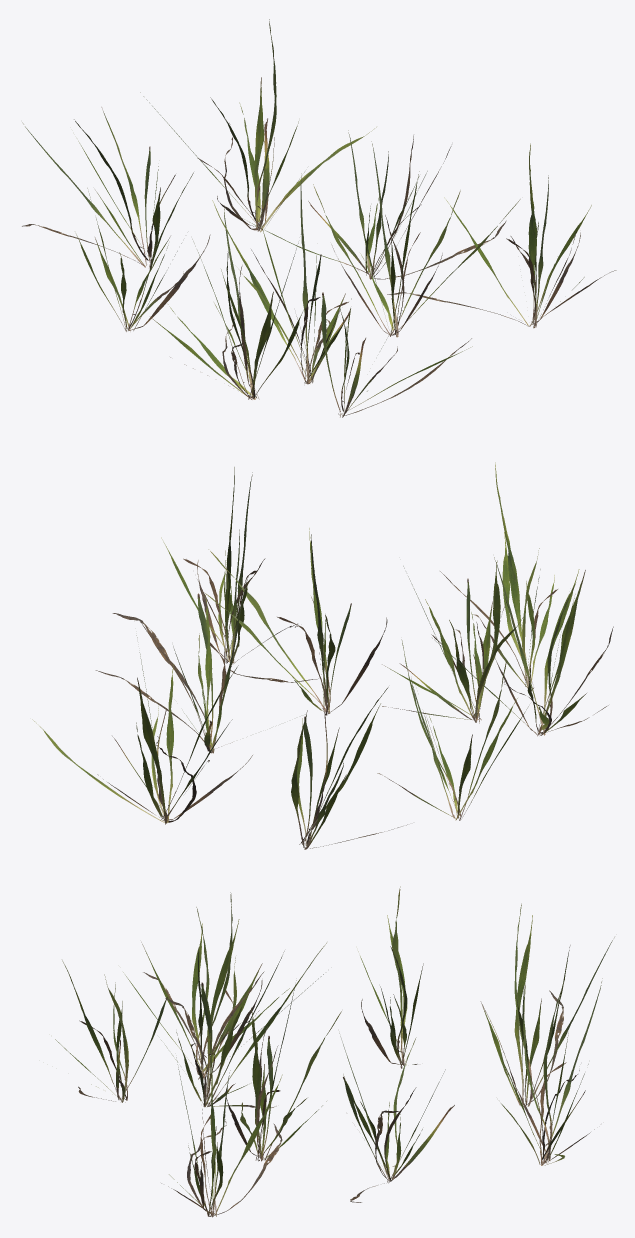
File: grass_1_2.FBX
3 renders of one model, top to bottom at view 1: azimuth 30°, elevation 25°; view 2: azimuth 150°, elevation 25°; view 3: azimuth 270°, elevation 25°, orthographic. The views are drawn at different scales.
Visible parts, largest first — view 1: grass_1_02; view 2: grass_1_02; view 3: grass_1_02.
Boxes of the visible parts, x1=… form: grass_1_02: x1=22, y1=19, x2=616, y2=417; grass_1_02: x1=32, y1=462, x2=613, y2=849; grass_1_02: x1=55, y1=886, x2=614, y2=1217.
Size of the model in its own units: 55.94 by 25.45 by 67.55.
1 material, 1 textured.
